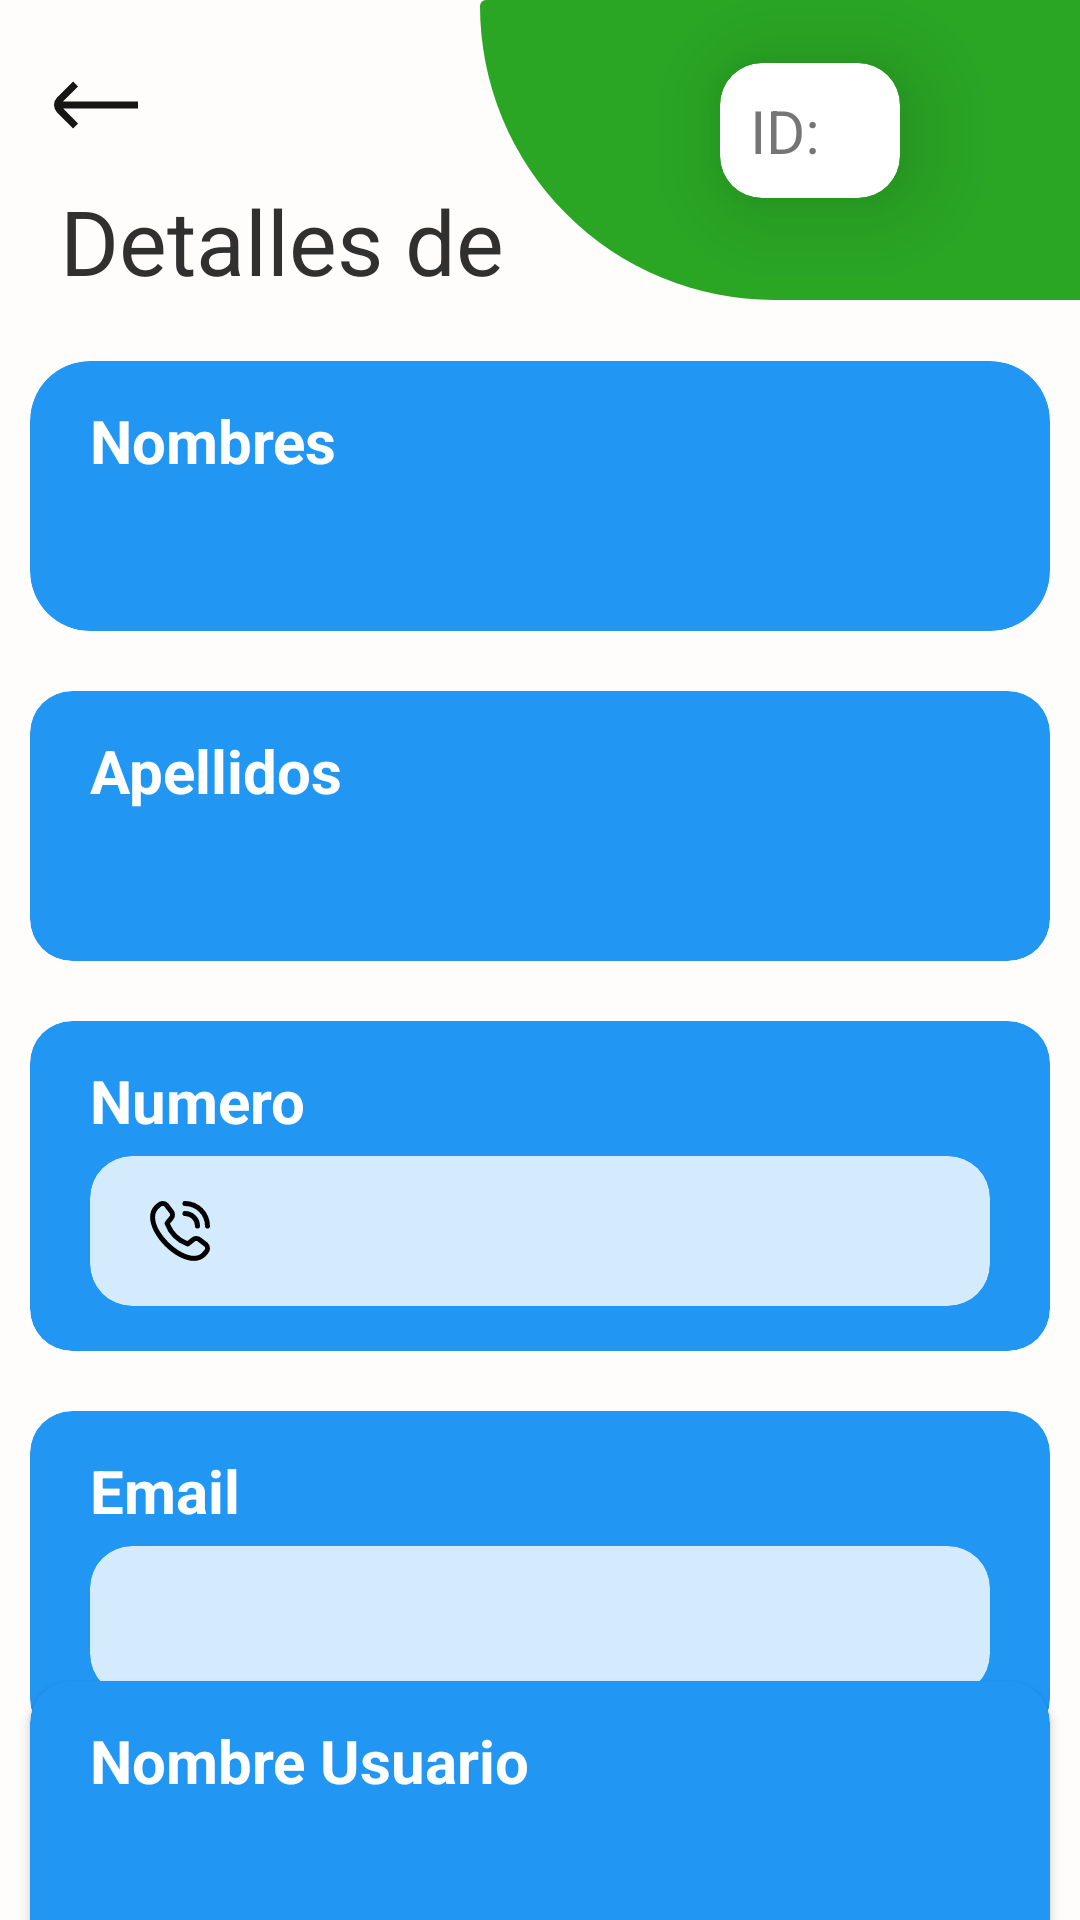

Screen size 1080*1920. Icon name, then its center in pixels as [x,y]:
arrow left: [96,105]
phone call: [180,1231]
